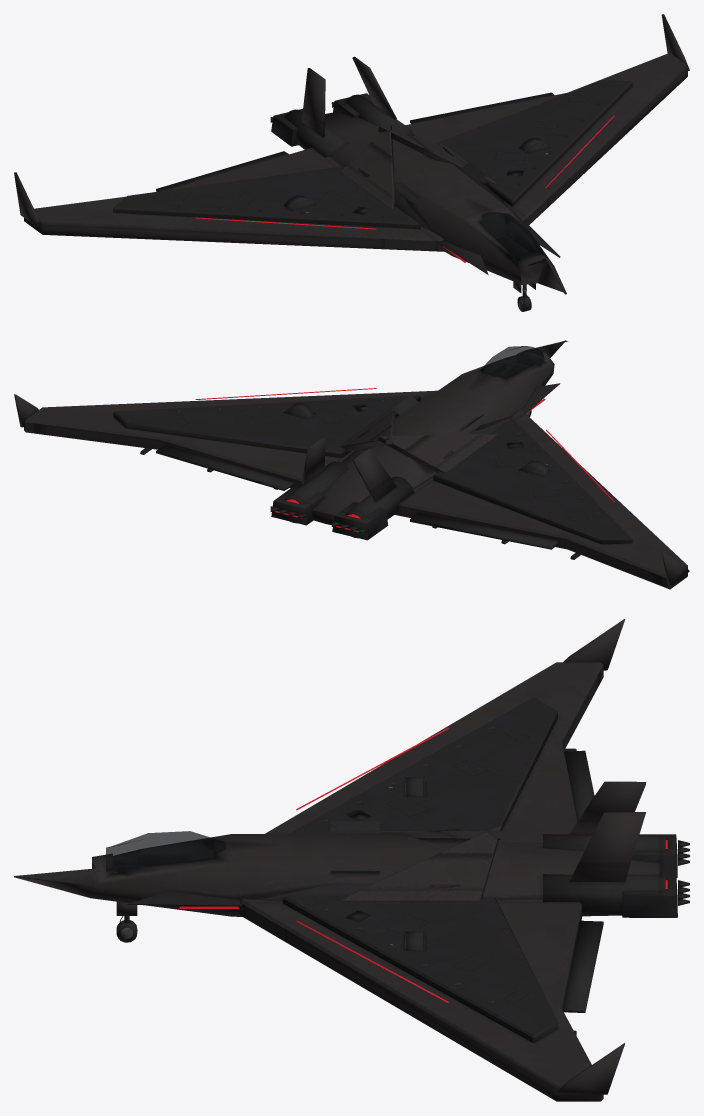
Rendered from CRA1_specter_stealth_lod1.glb.
3 renders of one model, top to bottom at view 1: azimuth 30°, elevation 25°; view 2: azimuth 150°, elevation 25°; view 3: azimuth 270°, elevation 25°, orthographic. The views are drawn at different scales.
Visible parts, largest first — view 1: CRA1_specter_stealth_LOD1; view 2: CRA1_specter_stealth_LOD1; view 3: CRA1_specter_stealth_LOD1.
Boxes of the visible parts, x1=… form: CRA1_specter_stealth_LOD1: x1=14, y1=14, x2=689, y2=311; CRA1_specter_stealth_LOD1: x1=14, y1=340, x2=689, y2=589; CRA1_specter_stealth_LOD1: x1=14, y1=619, x2=689, y2=1101.
Bounding box in the file's own units: 28.71 × 4.56 × 19.26.
Materials: 3 (3 with a texture image).
